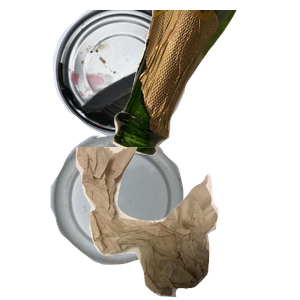glass: (111, 10, 300, 158)
metal: (50, 10, 262, 140)
plastic: (48, 132, 224, 300)
trash: (73, 147, 300, 300)
